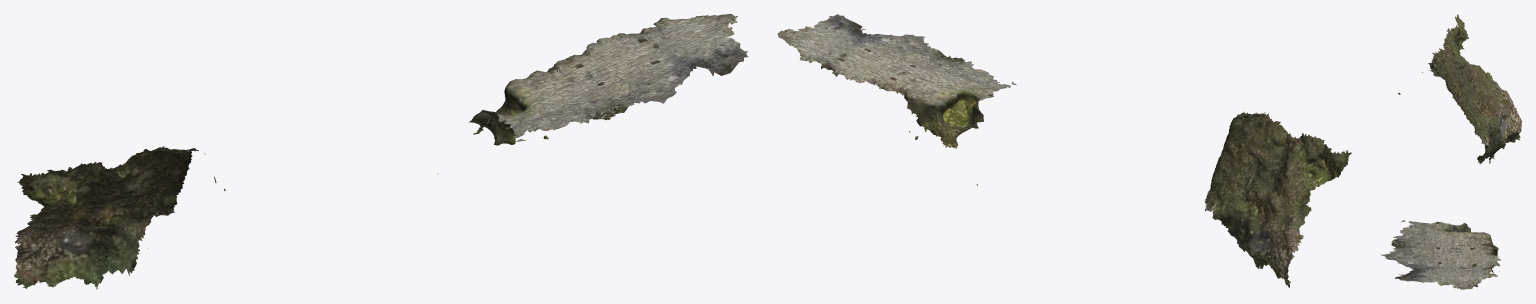
3 views of the same model, side by side, from view 1: azimuth 30°, elevation 25°; view 2: azimuth 150°, elevation 25°; view 3: azimuth 270°, elevation 25° (orthographic). The views are drawn at different scales.
Bounding box in the file's own units: 22.21 × 4.86 × 5.1.
1 material, 1 textured.
